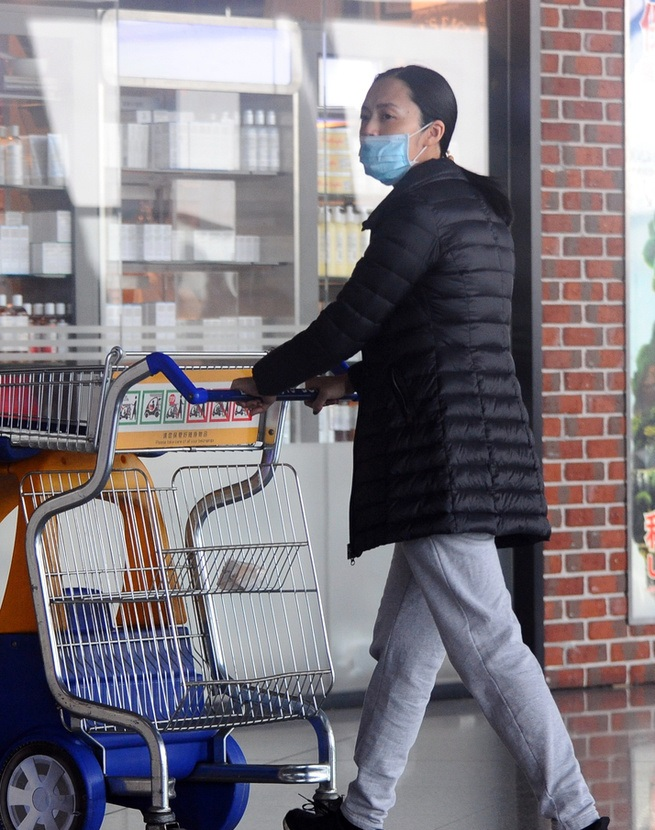face_mask: (359, 79, 423, 181)
